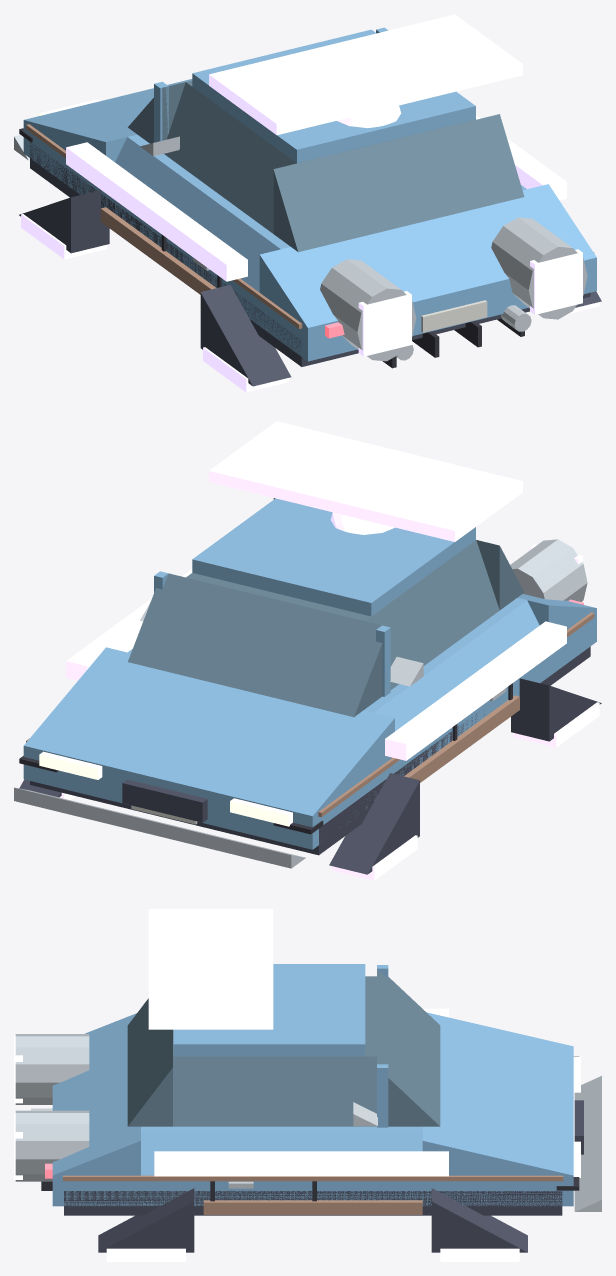
The model's file is orbit_owl.glb.
3 views of the same model, one above another, from view 1: azimuth 30°, elevation 25°; view 2: azimuth 150°, elevation 25°; view 3: azimuth 270°, elevation 25° (orthographic). The views are drawn at different scales.
Parts seen in each view (by area): view 1: RearWindow.202, SolarSail.015, Tail.102, CabinSideL.099, Body.302, Roof.302, FloatFin-1.044, ShoulderL.099, HoverPodWheel_RL.044, Nose.099, Sill.298, Thruster1.044 (+15 smaller); view 2: Nose.099, Windshield.202, SolarSail.015, Roof.302, Body.302, CabinSideL.099, FloatFin-1.044, ShoulderL.099, HoverPodWheel_FL.044, Bumper.298, Sill.298, Thruster-1.044 (+16 smaller); view 3: Nose.099, SolarSail.015, CabinSideR.099, Roof.302, Body.302, Tail.102, Sill.298, Windshield.202, FloatFin1.044, ShoulderR.099, RearWindow.202, Thruster-1.044 (+12 smaller).
Boxes of the visible parts, x1=… form: RearWindow.202: x1=273, y1=114, x2=524, y2=252; SolarSail.015: x1=209, y1=14, x2=522, y2=135; Tail.102: x1=259, y1=184, x2=596, y2=327; CabinSideL.099: x1=164, y1=82, x2=296, y2=233; Body.302: x1=23, y1=120, x2=596, y2=361; Roof.302: x1=192, y1=29, x2=475, y2=162; FloatFin-1.044: x1=66, y1=142, x2=247, y2=281; ShoulderL.099: x1=115, y1=137, x2=280, y2=292; HoverPodWheel_RL.044: x1=200, y1=285, x2=291, y2=386; Nose.099: x1=24, y1=79, x2=192, y2=161; Sill.298: x1=30, y1=142, x2=590, y2=366; Thruster1.044: x1=491, y1=217, x2=587, y2=319; Nose.099: x1=24, y1=647, x2=394, y2=815; Windshield.202: x1=128, y1=573, x2=382, y2=717; SolarSail.015: x1=209, y1=421, x2=522, y2=541; Roof.302: x1=192, y1=498, x2=475, y2=616; Body.302: x1=23, y1=608, x2=596, y2=849; CabinSideL.099: x1=365, y1=540, x2=499, y2=689; FloatFin-1.044: x1=385, y1=621, x2=566, y2=760; ShoulderL.099: x1=374, y1=600, x2=539, y2=731; HoverPodWheel_FL.044: x1=329, y1=773, x2=419, y2=874; Bumper.298: x1=14, y1=787, x2=305, y2=868; Sill.298: x1=30, y1=646, x2=590, y2=855; Thruster-1.044: x1=510, y1=539, x2=587, y2=601; Nose.099: x1=422, y1=1012, x2=573, y2=1175; SolarSail.015: x1=148, y1=909, x2=273, y2=1029; CabinSideR.099: x1=173, y1=1056, x2=376, y2=1126; Roof.302: x1=173, y1=964, x2=365, y2=1056; Body.302: x1=52, y1=1175, x2=573, y2=1206; Tail.102: x1=52, y1=1013, x2=140, y2=1175; Sill.298: x1=64, y1=1191, x2=562, y2=1215; Windshield.202: x1=377, y1=969, x2=440, y2=1126; FloatFin1.044: x1=154, y1=1151, x2=448, y2=1176; ShoulderR.099: x1=141, y1=1131, x2=422, y2=1175; RearWindow.202: x1=127, y1=998, x2=172, y2=1126; Thruster-1.044: x1=15, y1=1034, x2=89, y2=1104.
Bounding box in the file's own units: 3.3 × 2.13 × 5.19.
